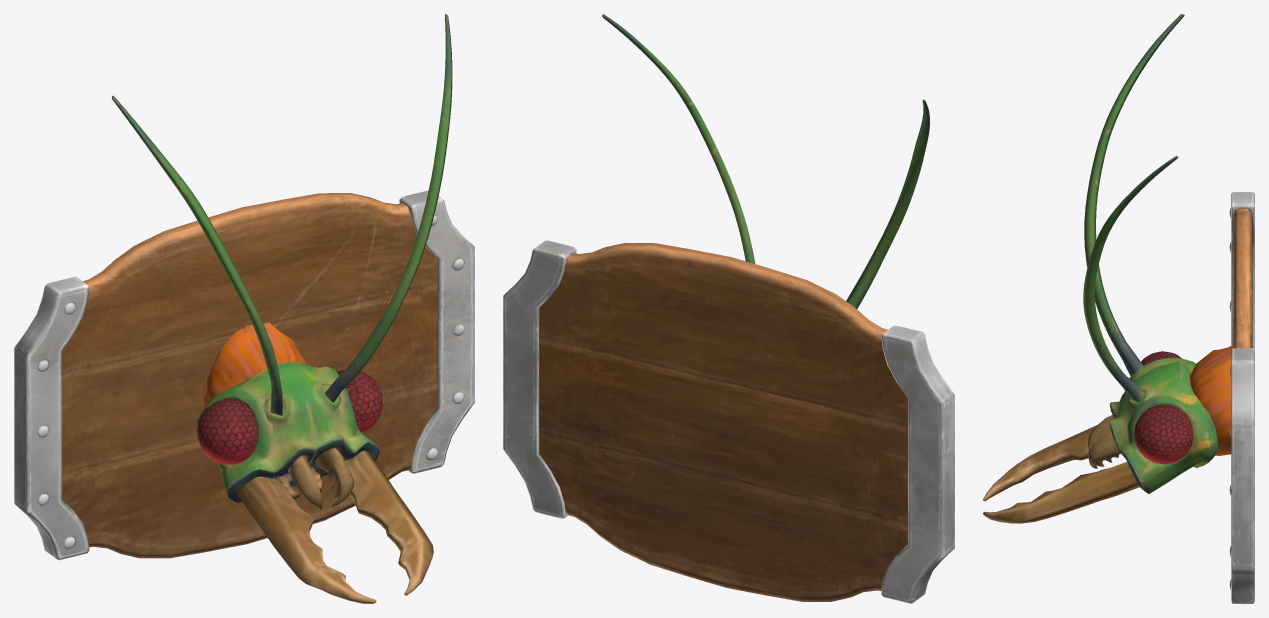
3 renders of one model, left to right at view 1: azimuth 30°, elevation 25°; view 2: azimuth 150°, elevation 25°; view 3: azimuth 270°, elevation 25°, orthographic. The views are drawn at different scales.
Visible parts, largest first — view 1: SM_Trophy_Plaque_Worker_LOD0; view 2: SM_Trophy_Plaque_Worker_LOD0; view 3: SM_Trophy_Plaque_Worker_LOD0.
Boxes of the visible parts, x1,y1,x2,y2 form: SM_Trophy_Plaque_Worker_LOD0: (14, 14, 474, 603); SM_Trophy_Plaque_Worker_LOD0: (503, 14, 954, 603); SM_Trophy_Plaque_Worker_LOD0: (983, 14, 1254, 603).
Size of the model in its own units: 0.7387 by 0.8104 by 0.4286.
Materials: 3 (3 with a texture image).
